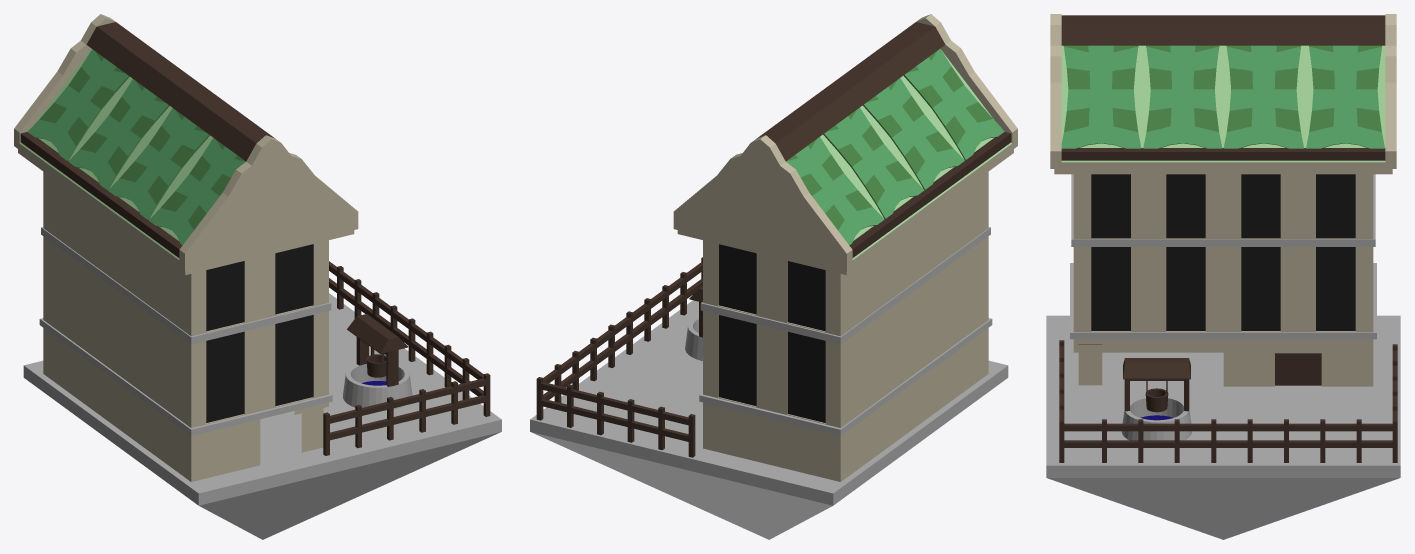
The model's file is Building House T2.fbx.
3 renders of one model, left to right at view 1: azimuth 30°, elevation 25°; view 2: azimuth 150°, elevation 25°; view 3: azimuth 270°, elevation 25°, orthographic.
Parts seen in each view (by area): view 1: House T2; view 2: House T2; view 3: House T2.
Boxes of the visible parts, x1=… form: House T2: x1=14, y1=14, x2=501, y2=539; House T2: x1=530, y1=14, x2=1017, y2=539; House T2: x1=1046, y1=14, x2=1400, y2=539.
Bounding box in the file's own units: 1660 × 2429 × 1599.
